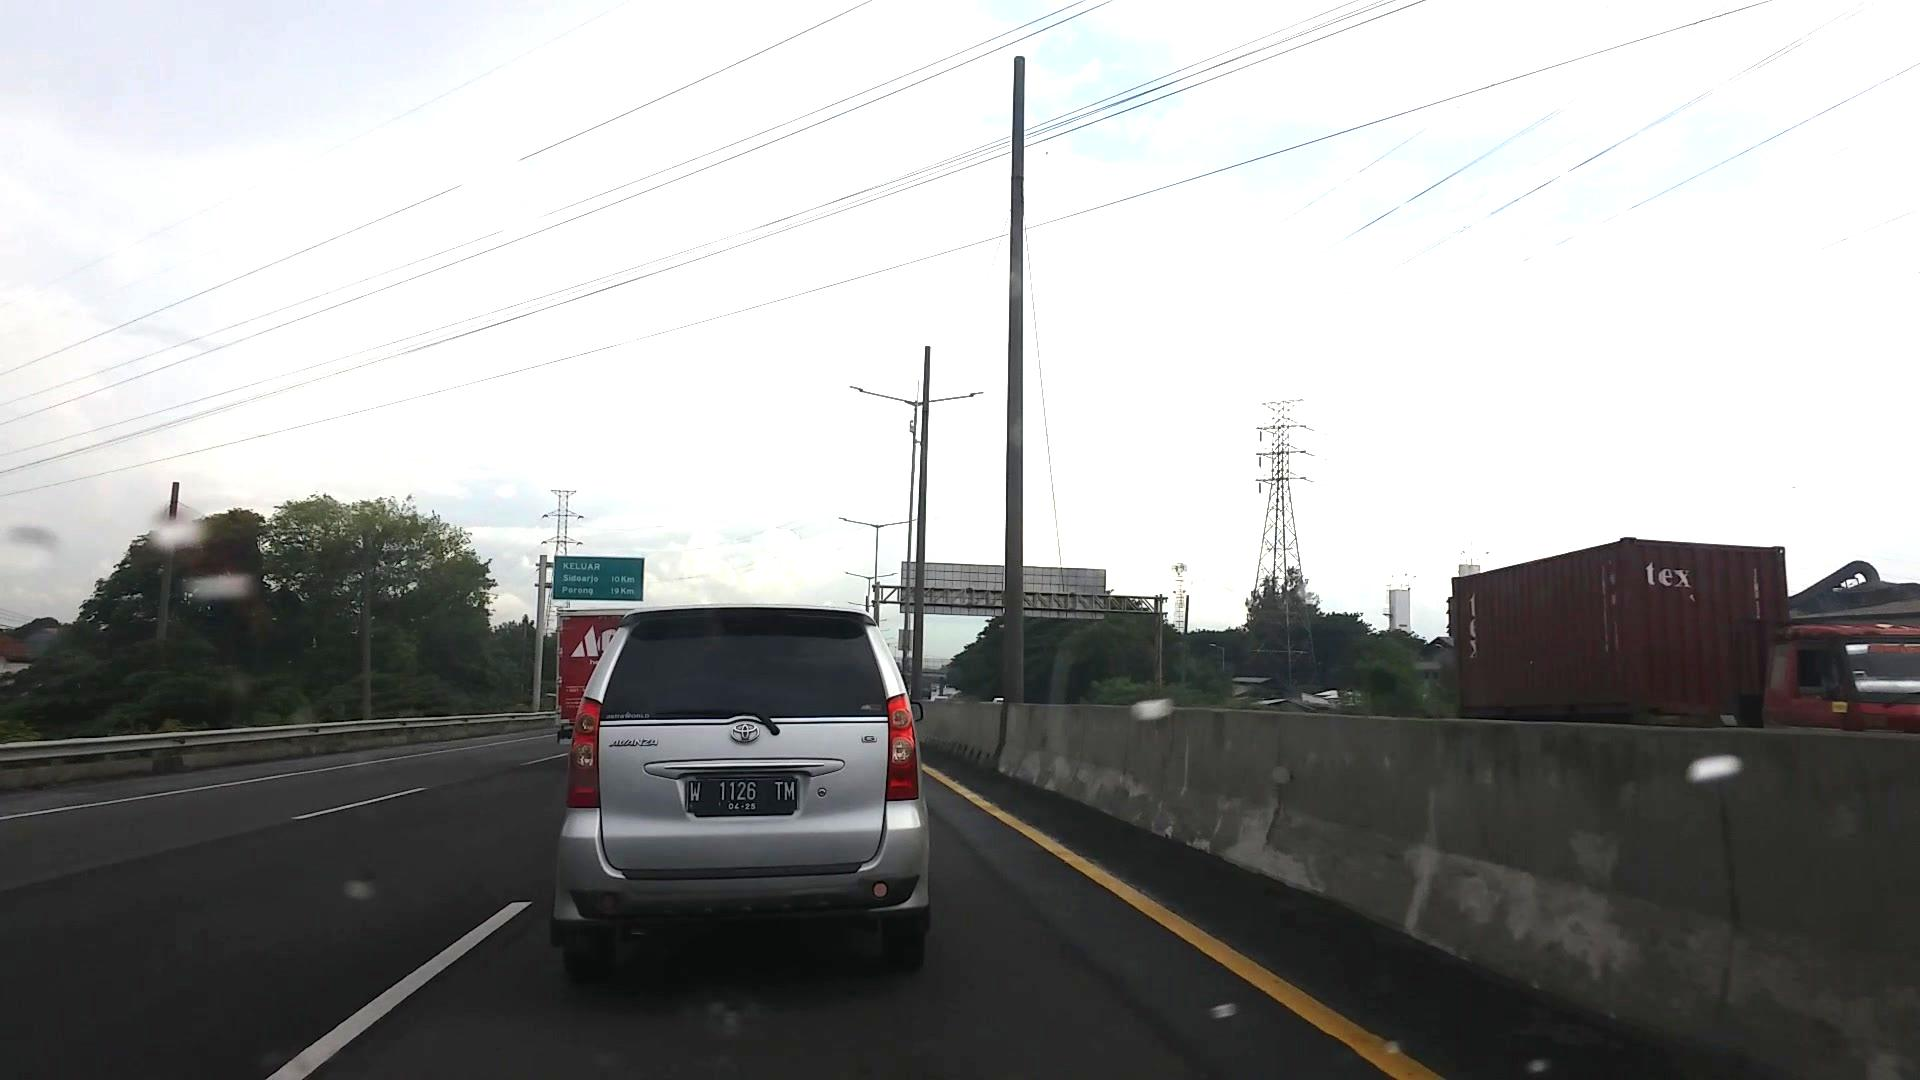plate_positive: (684, 778, 798, 815)
